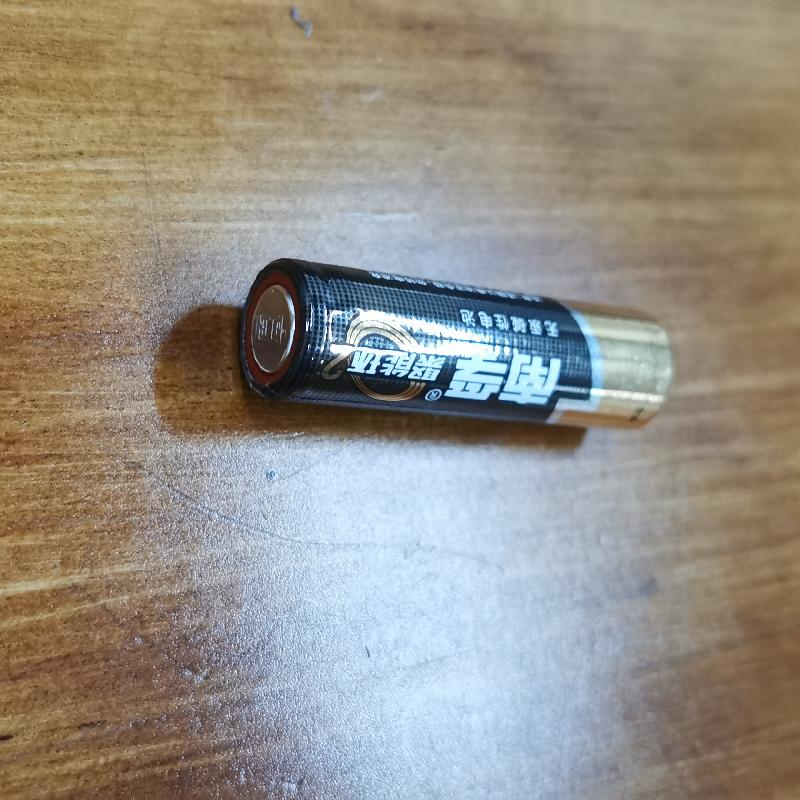battery: (236, 252, 686, 438)
